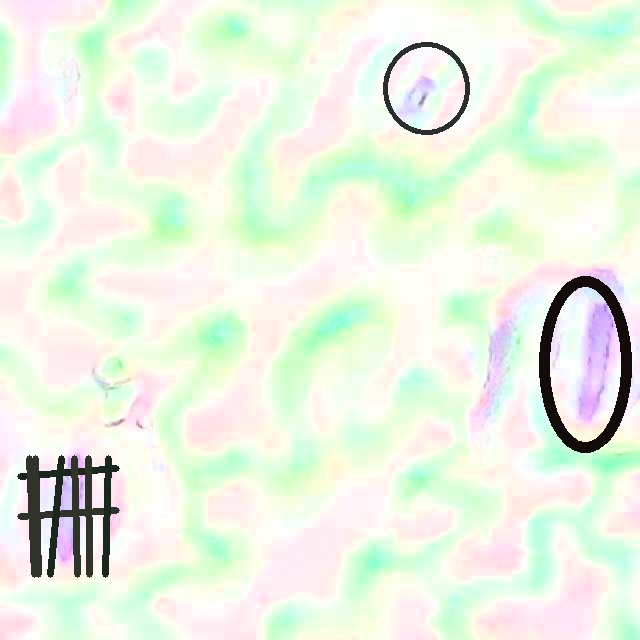close: (382, 41, 471, 135)
open: (538, 276, 631, 451), (17, 456, 119, 576)
